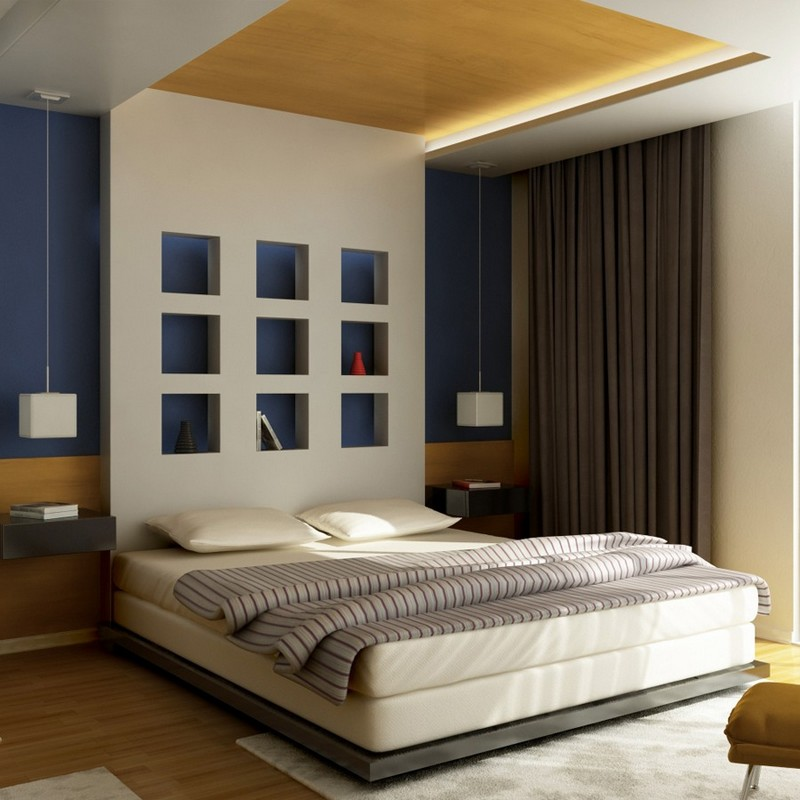bed: (111, 490, 772, 757)
lamp: (14, 324, 81, 442), (457, 338, 508, 429)
